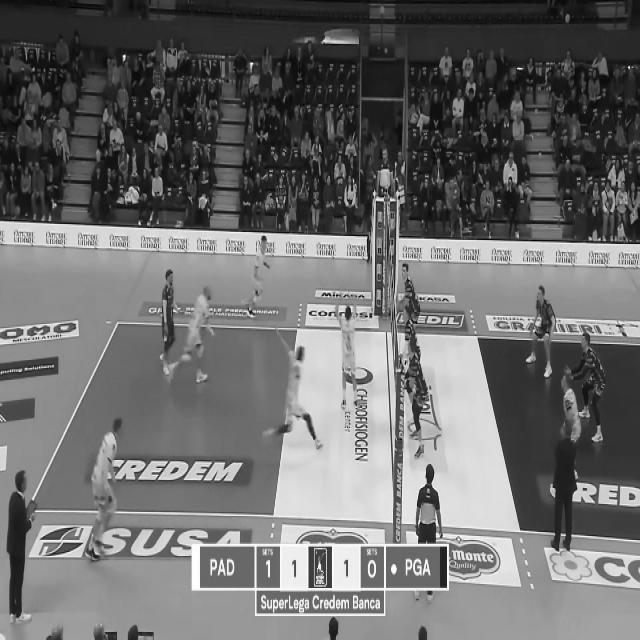volleyball court: (26, 320, 639, 541)
